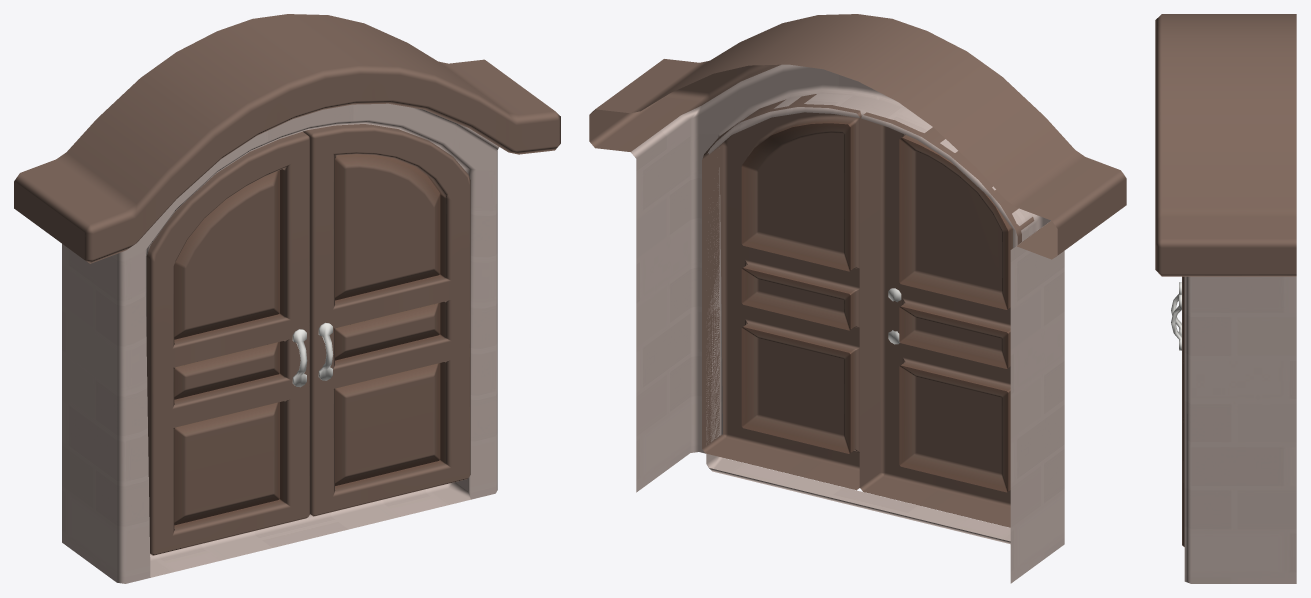
File: Door_Double_WithFrame.fbx
3 renders of one model, left to right at view 1: azimuth 30°, elevation 25°; view 2: azimuth 150°, elevation 25°; view 3: azimuth 270°, elevation 25°, orthographic. The views are drawn at different scales.
Visible parts, largest first — view 1: DoubleDoor, Doorframe; view 2: DoubleDoor, Doorframe; view 3: Doorframe, DoubleDoor.
Part boxes in pixels (x1,y1,x2,y2): DoubleDoor: (146,124,470,555); Doorframe: (14,14,560,583); DoubleDoor: (702,94,1034,527); Doorframe: (589,14,1126,583); Doorframe: (1155,14,1296,583); DoubleDoor: (1171,276,1184,546).
Bounding box in the file's own units: 403 × 385 × 108.
